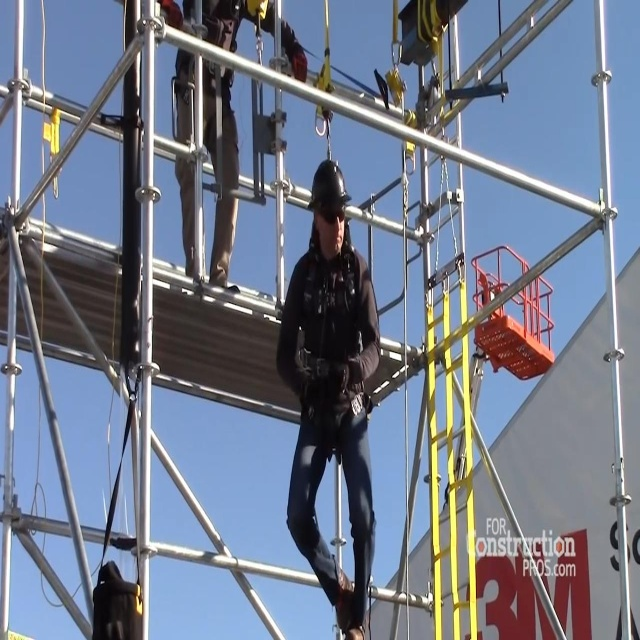Arnes_seguridad: (297, 158, 366, 461), (173, 0, 244, 149)
